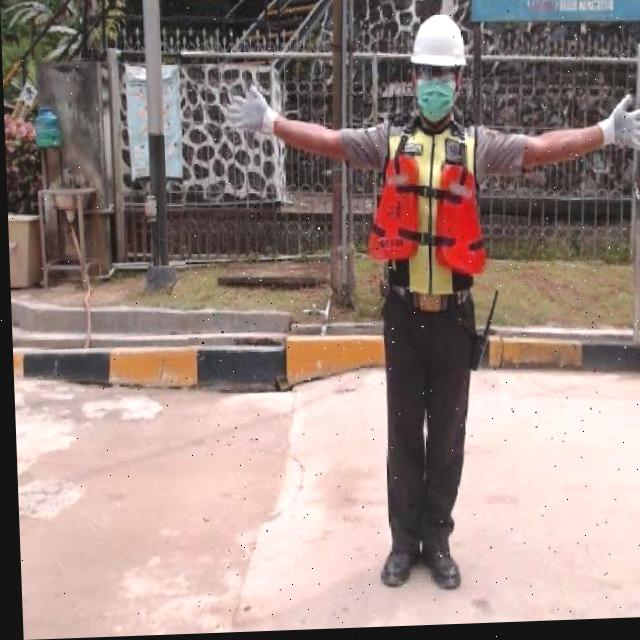Gloves: (219, 86, 279, 138), (597, 97, 640, 157)
Helmet: (407, 14, 468, 72)
Safety-Boot: (376, 546, 415, 590)
Safety-Vest: (363, 118, 487, 300)
